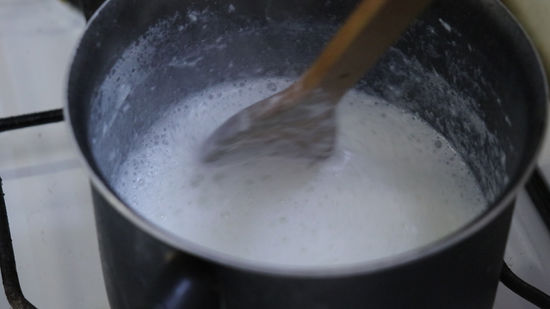Steaming: (70, 16, 527, 295)
